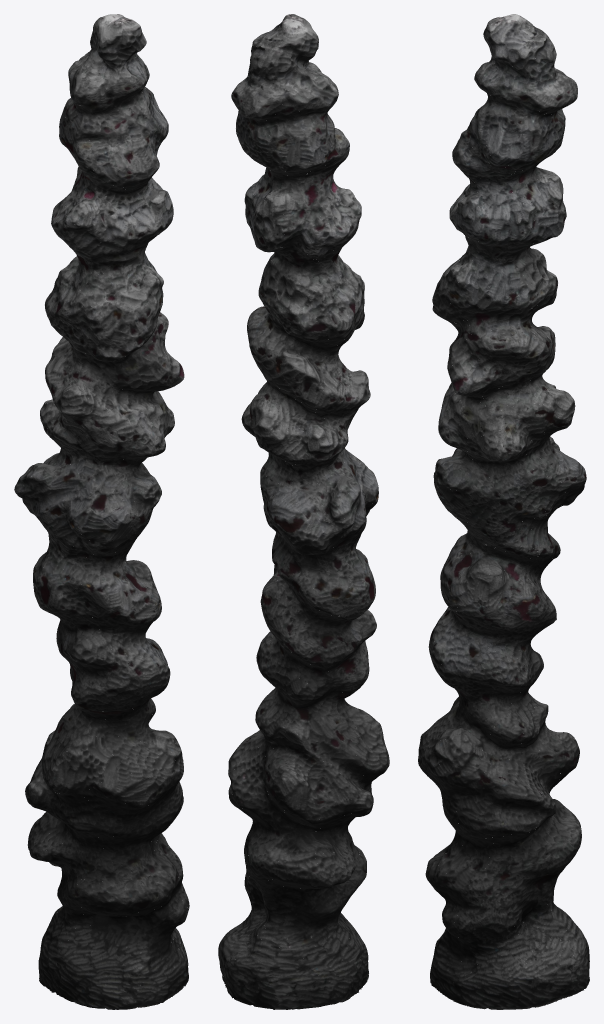
Rendered from ungno.glb.
3 views of the same model, side by side, from view 1: azimuth 30°, elevation 25°; view 2: azimuth 150°, elevation 25°; view 3: azimuth 270°, elevation 25° (orthographic).
Visible parts, largest first — view 1: Mesh_0_Part_0; view 2: Mesh_0_Part_0; view 3: Mesh_0_Part_0.
Part boxes in pixels (x1,y1,x2,y2): Mesh_0_Part_0: (14,14,189,1009); Mesh_0_Part_0: (218,14,389,1009); Mesh_0_Part_0: (418,14,589,1009).
Size of the model in its own units: 3.62 by 22.61 by 3.65.
Materials: 1 (1 with a texture image).
